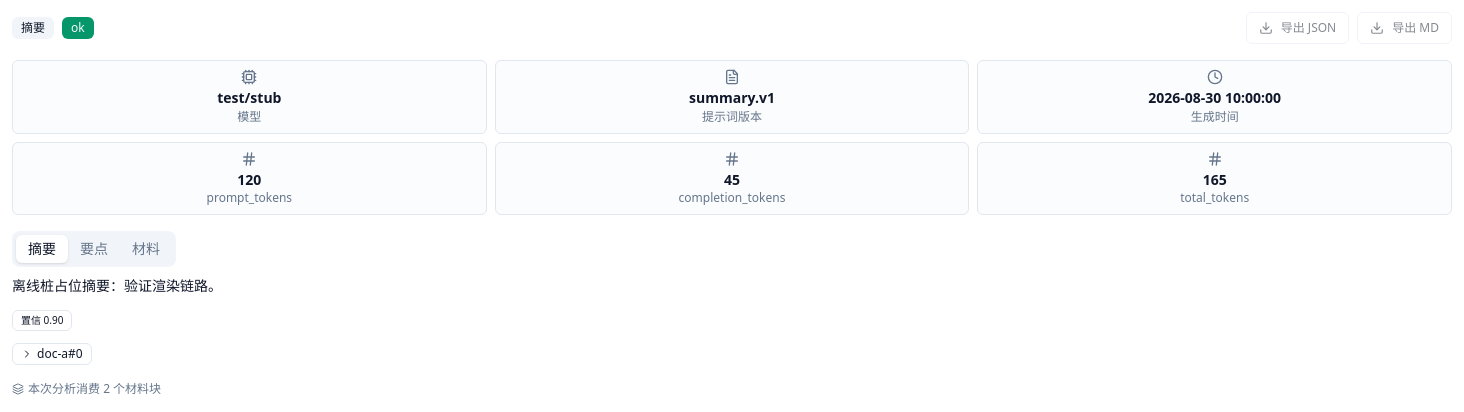
Scenario: 各节渲染存在性（第一批 5 类） › summary：摘要正文 / 要点分节 / 置信标记 / 信封元信息
The width and height of the screenshot is (1464, 412).
Expected: the text "离线桩占位摘要：验证渲染链路。" is shown, [12,276,222,295]
Expected: the text "置信 0.90" is shown, [12,310,72,331]
// 切到「要点」分节
Click the tab "要点".
click(94, 249)  # box [68,235,120,263]
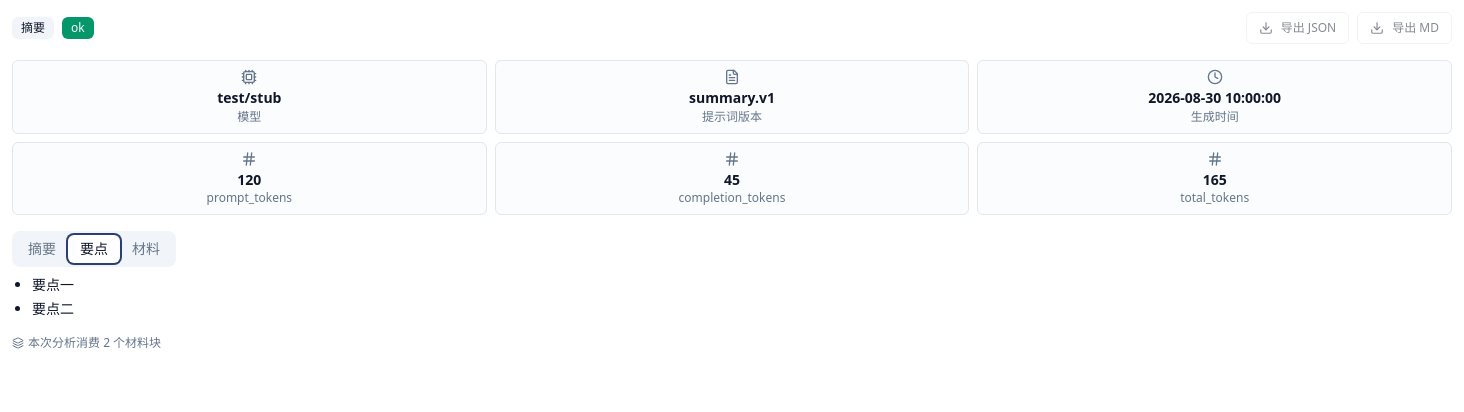
Expected: the text "test/stub" is shown, [217,89,282,106]
Now the list item "要点一" is shown, box [32,275,74,294]
Now the list item "要点二" is shown, box [32,299,74,318]
